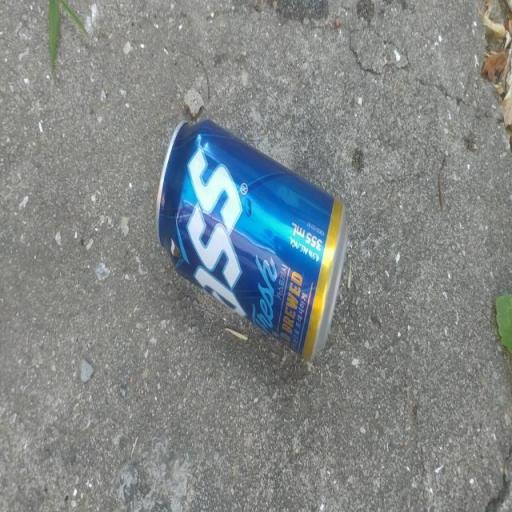metal: (138, 87, 370, 423)
